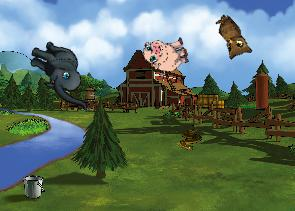elephant: (19, 37, 102, 111)
owl: (204, 12, 256, 65)
pig: (140, 29, 192, 79)
